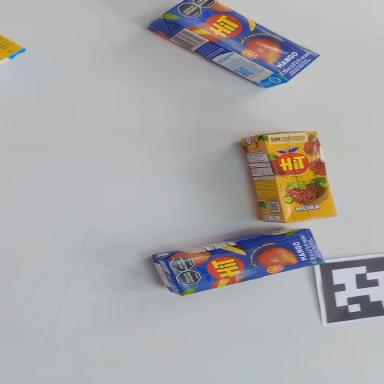HIT-MANGO: (148, 0, 319, 104), (152, 218, 324, 300)
HIT-MORA: (240, 122, 336, 233), (0, 35, 26, 71)
cara_F: (161, 0, 319, 89), (168, 227, 326, 297), (263, 122, 339, 230), (0, 33, 23, 63)
